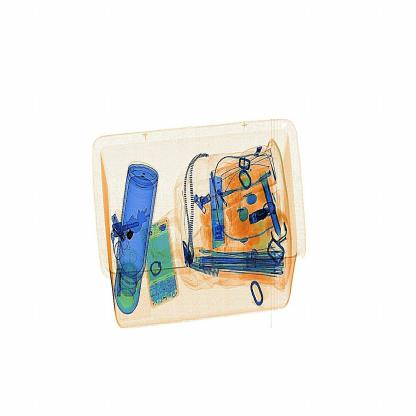pliers: (201, 168, 239, 265)
